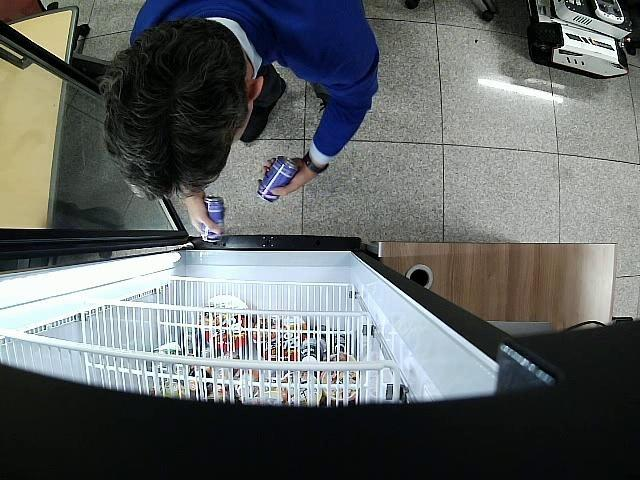14_welchsGrape: (258, 157, 298, 203), (202, 197, 224, 242)
